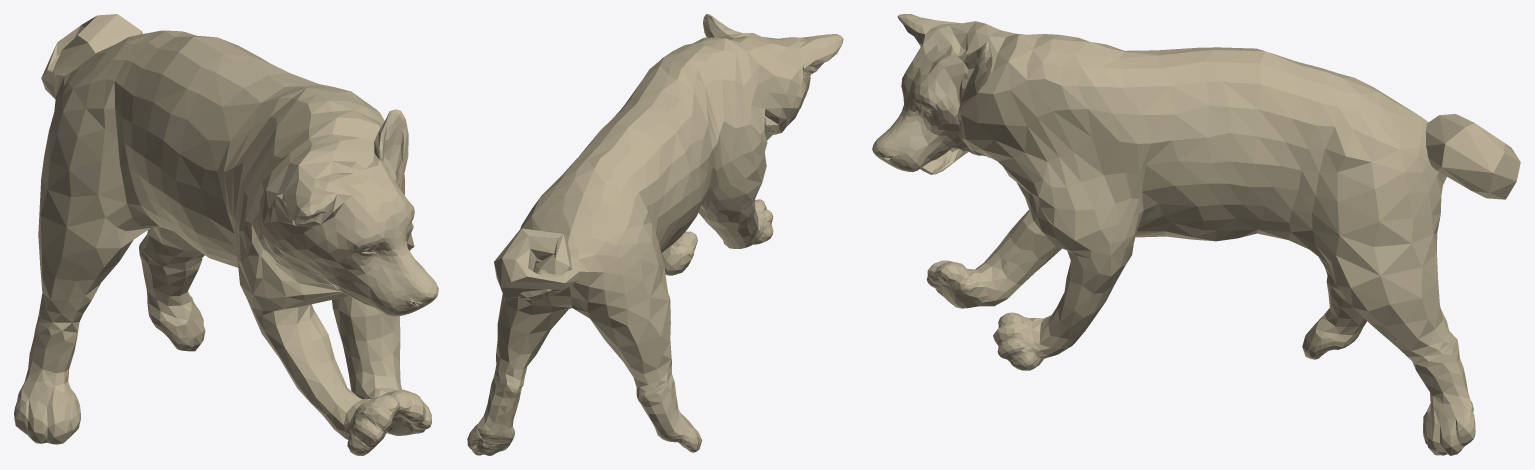
3 views of the same model, side by side, from view 1: azimuth 30°, elevation 25°; view 2: azimuth 150°, elevation 25°; view 3: azimuth 270°, elevation 25° (orthographic). The views are drawn at different scales.
Visible parts, largest first — view 1: world; view 2: world; view 3: world.
Part boxes in pixels (x1,y1,x2,y2): world: (14, 14, 438, 455); world: (467, 14, 843, 455); world: (872, 14, 1520, 455).
Size of the model in its own units: 0.4813 by 0.8063 by 1.22.
